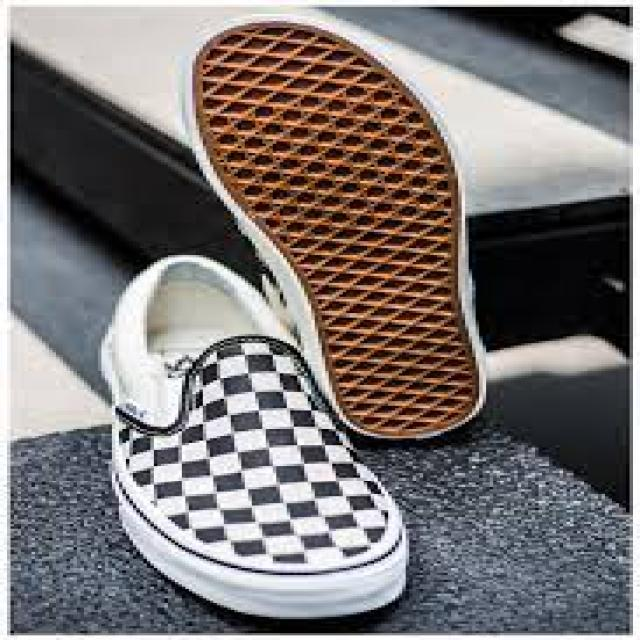shoe: (174, 10, 506, 450), (96, 250, 415, 623)
